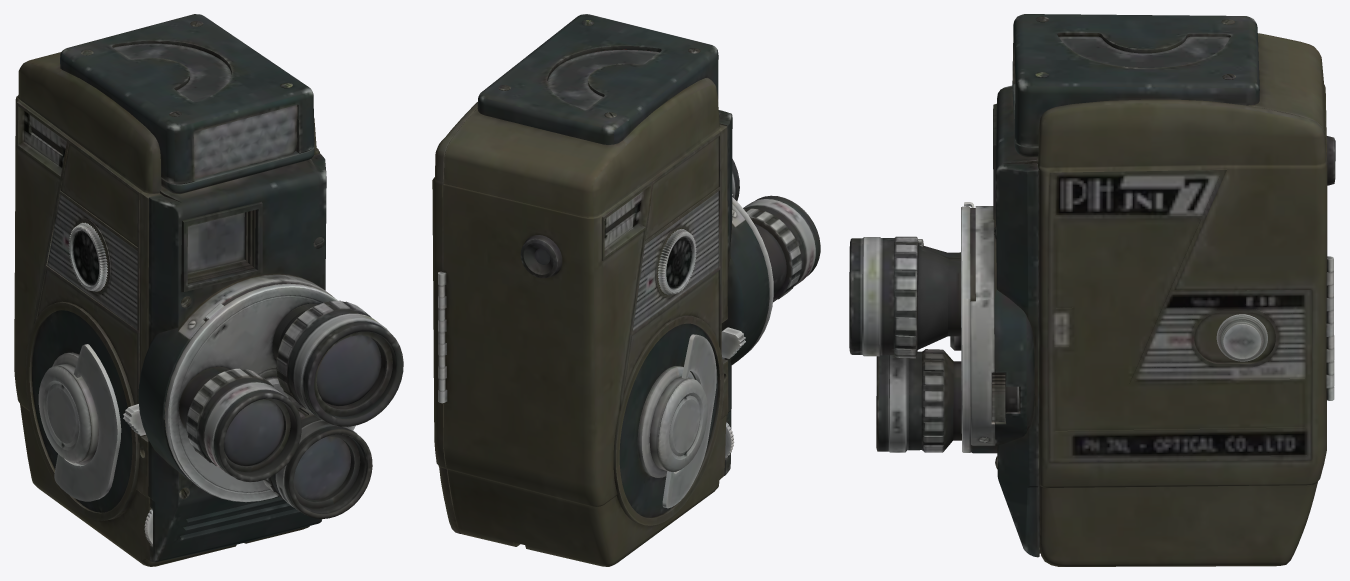
Rendered from videoCamera.glb.
The picture shows the model from 3 angles, left to right: view 1: azimuth 30°, elevation 25°; view 2: azimuth 150°, elevation 25°; view 3: azimuth 270°, elevation 25°; orthographic projection. The views are drawn at different scales.
Parts seen in each view (by area): view 1: vintage_video_camera; view 2: vintage_video_camera; view 3: vintage_video_camera.
Part boxes in pixels (x1,y1,x2,y2): vintage_video_camera: (14, 14, 403, 566); vintage_video_camera: (432, 14, 820, 566); vintage_video_camera: (849, 14, 1335, 566).
Size of the model in its own units: 0.0712 by 0.145 by 0.1326.
Materials: 2 (2 with a texture image).
